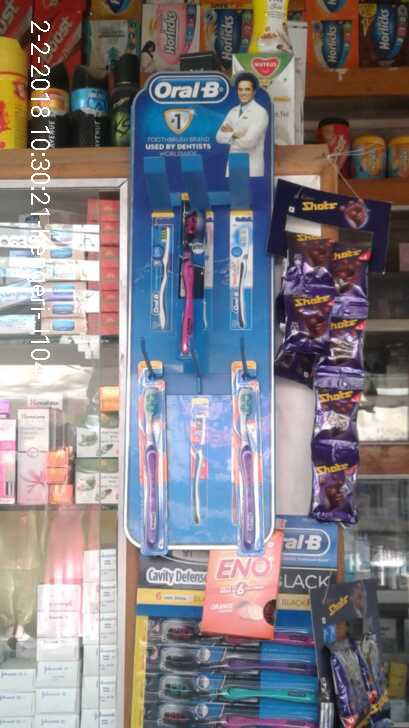oralb: (133, 383, 169, 546), (233, 388, 266, 550)
